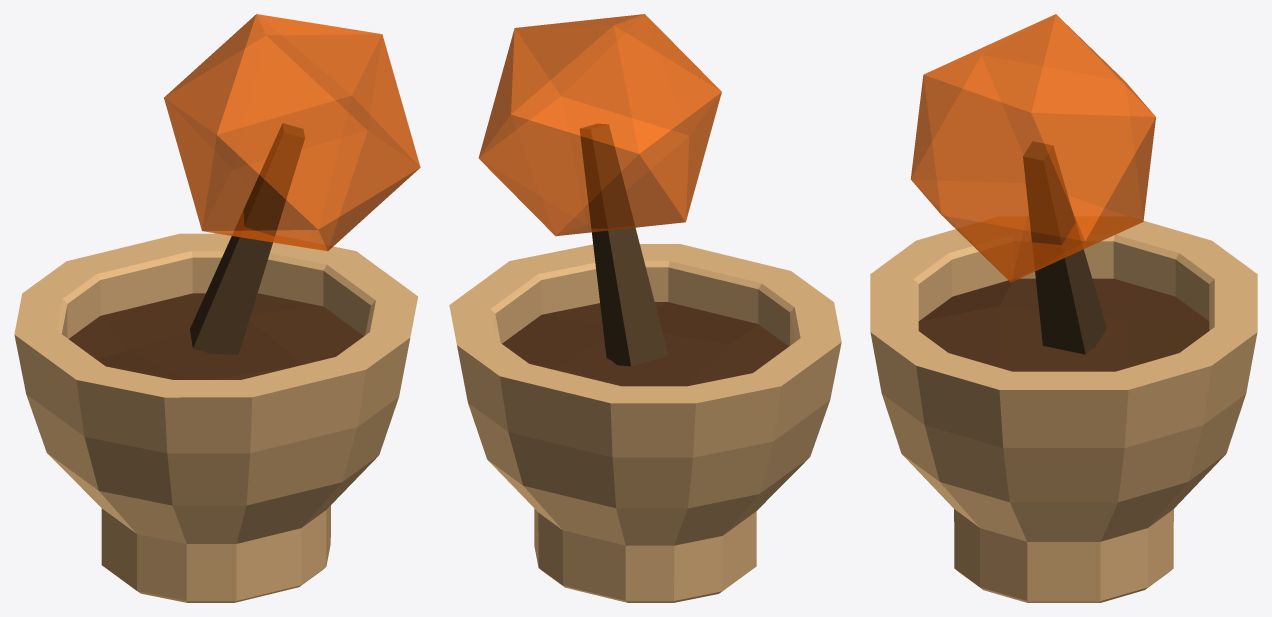
Rendered from pot4.glb.
3 renders of one model, left to right at view 1: azimuth 30°, elevation 25°; view 2: azimuth 150°, elevation 25°; view 3: azimuth 270°, elevation 25°, orthographic. The views are drawn at different scales.
Parts seen in each view (by area): view 1: Cube, Icosphere, Cube.001; view 2: Cube, Icosphere, Cube.001; view 3: Cube, Icosphere, Cube.001.
Part boxes in pixels (box(x1,y1,x2,y2)): Cube: box(14, 233, 417, 602); Icosphere: box(164, 14, 420, 251); Cube.001: box(190, 123, 304, 354); Cube: box(449, 244, 841, 602); Icosphere: box(478, 14, 721, 236); Cube.001: box(580, 124, 668, 366); Cube: box(870, 221, 1257, 602); Icosphere: box(910, 14, 1155, 282); Cube.001: box(1023, 141, 1106, 354).
Size of the model in its own units: 2.95 by 4.44 by 2.78.
